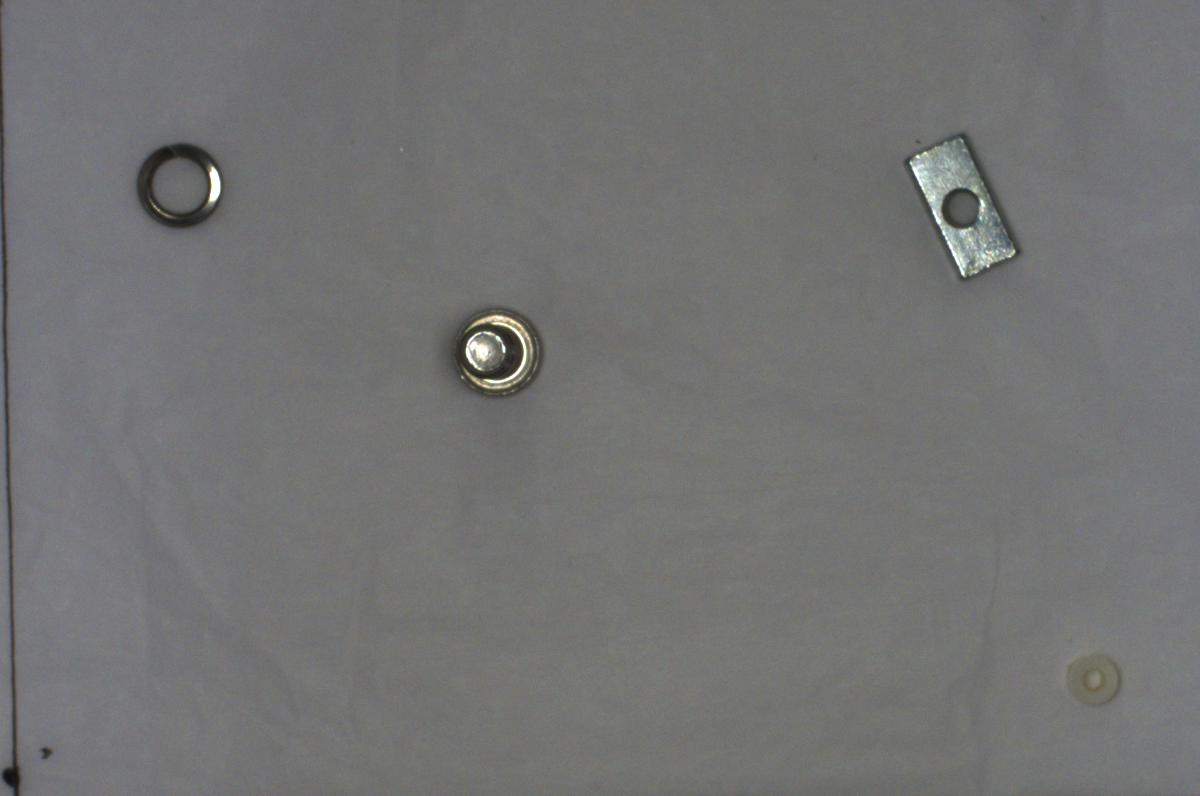Hexagon screw: (446, 300, 552, 403)
Plastic cushion pillar: (1060, 646, 1133, 710)
Rectangular nut: (895, 116, 1031, 294)
Spring washer: (122, 133, 233, 232)
